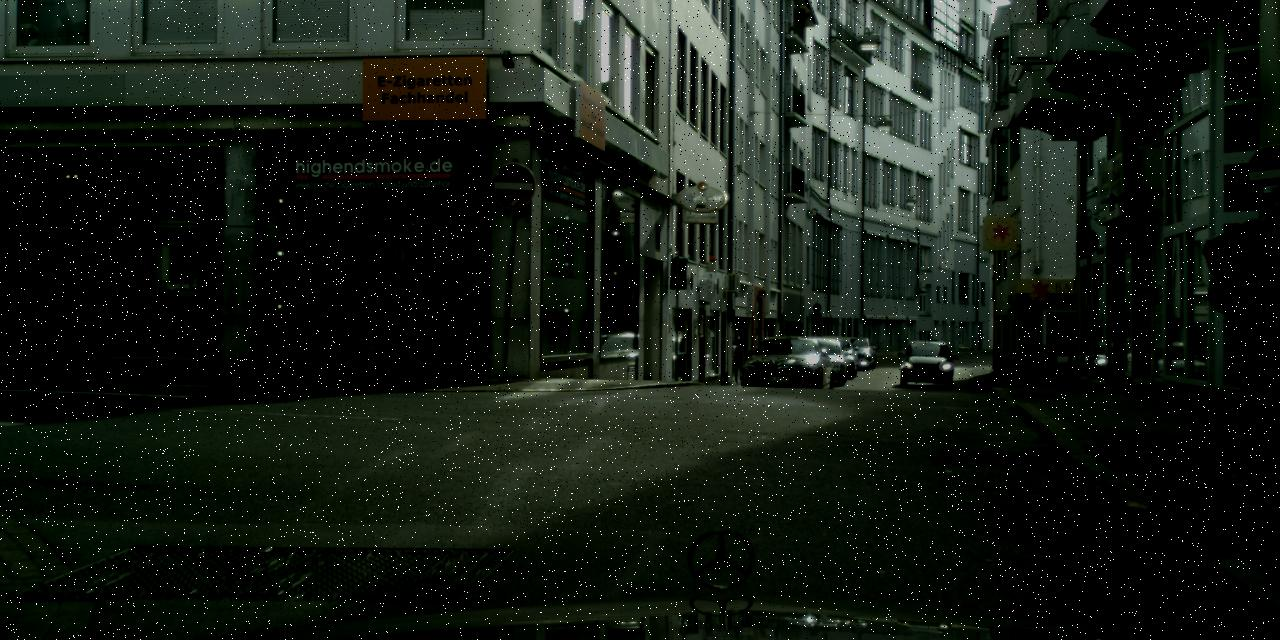ped: (1209, 186, 1279, 483)
